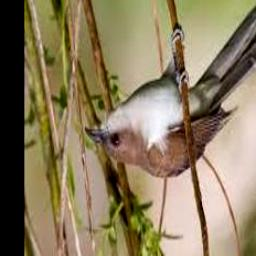Cuckoo: (85, 0, 256, 179)
